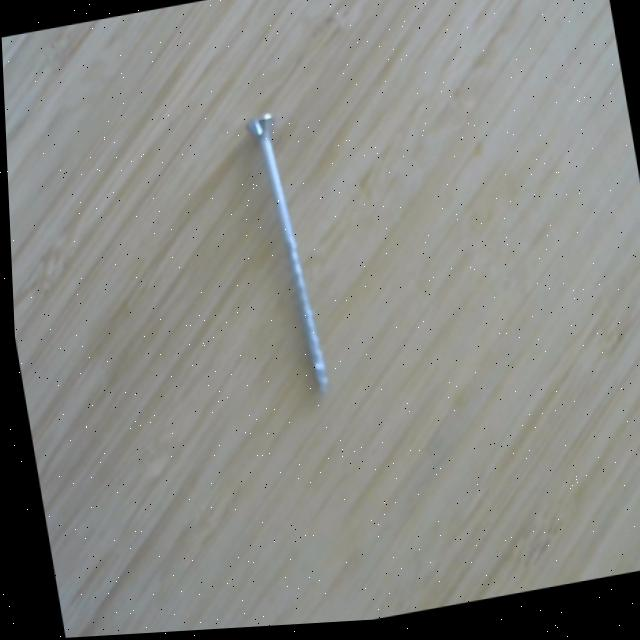Long screw: (237, 99, 334, 410)
